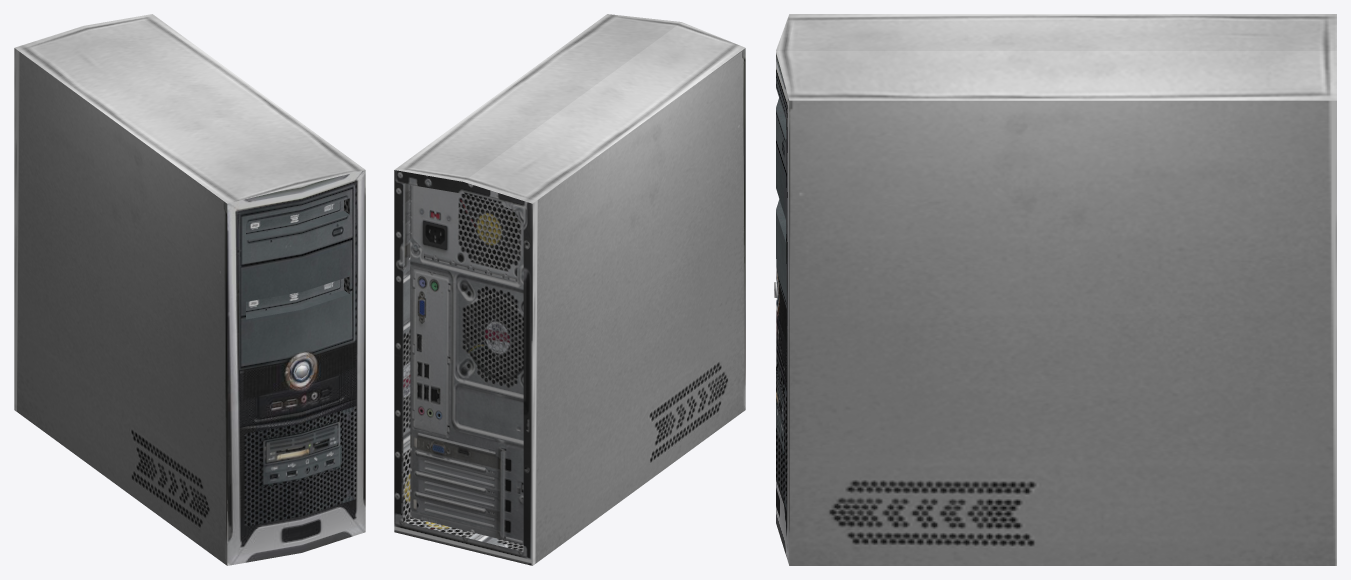
Rendered from Office_Computer_2.fbx.
The picture shows the model from 3 angles, left to right: view 1: azimuth 30°, elevation 25°; view 2: azimuth 150°, elevation 25°; view 3: azimuth 270°, elevation 25°; orthographic projection. The views are drawn at different scales.
Visible parts, largest first — view 1: Office_Computer_2; view 2: Office_Computer_2; view 3: Office_Computer_2.
Part boxes in pixels (x1=…): Office_Computer_2: x1=14, y1=14, x2=365, y2=565; Office_Computer_2: x1=394, y1=14, x2=745, y2=565; Office_Computer_2: x1=774, y1=14, x2=1336, y2=565.
Size of the model in its own units: 18.25 by 46.26 by 50.02.
